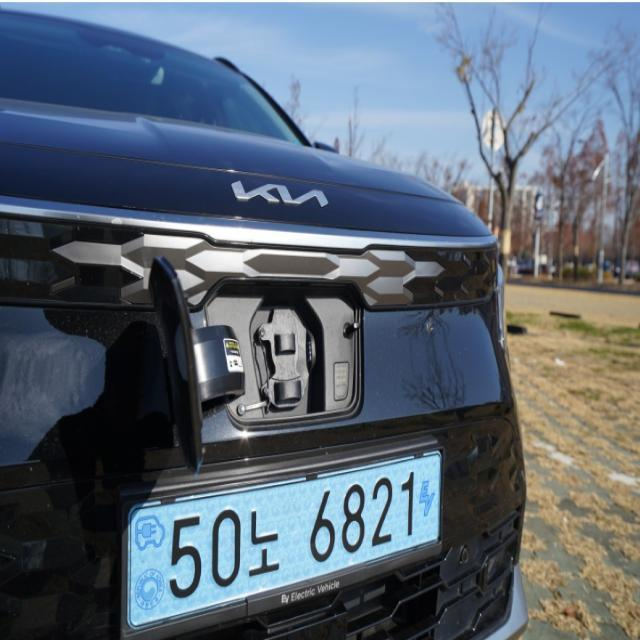car: (83, 428, 469, 640)
carev: (127, 510, 167, 624), (414, 466, 440, 537)
